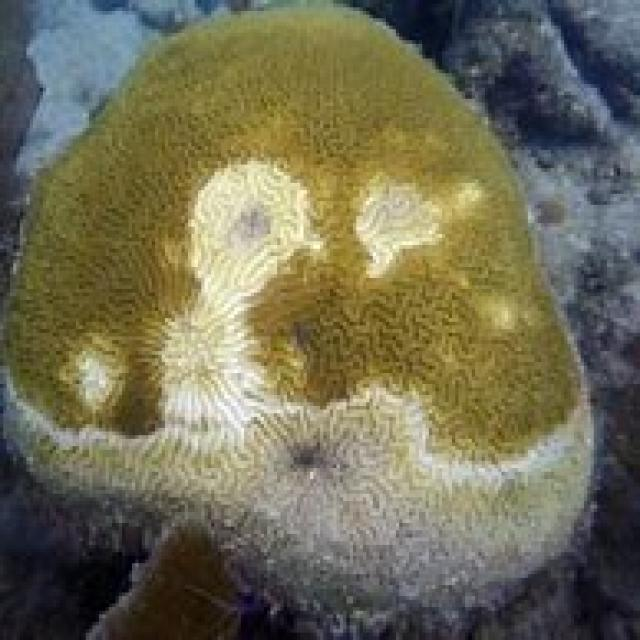Coral: (0, 0, 594, 640), (84, 510, 242, 640)
